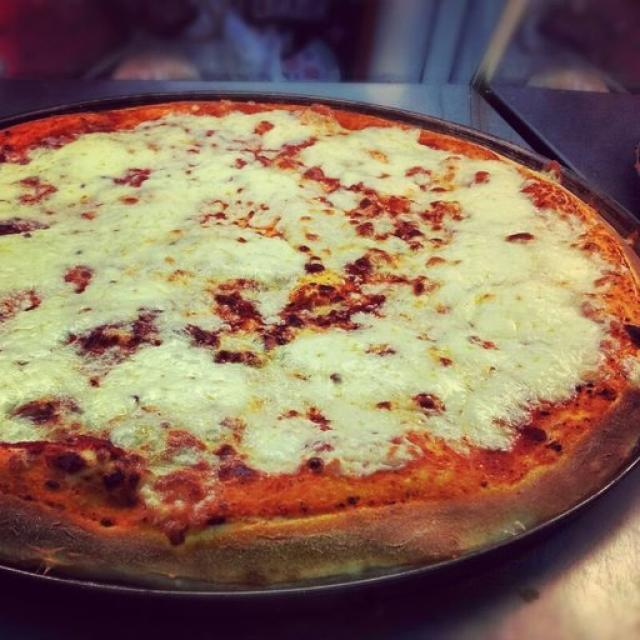Cheese: (13, 148, 577, 452)
Pizza: (0, 99, 640, 596)
